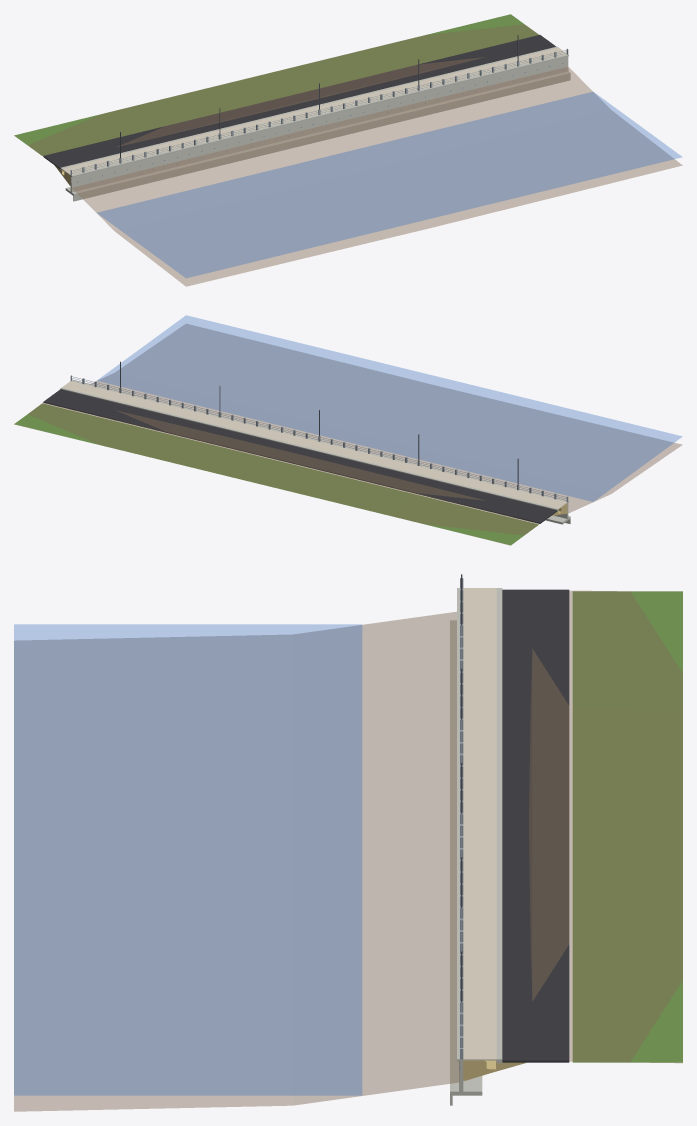
3 renders of one model, top to bottom at view 1: azimuth 30°, elevation 25°; view 2: azimuth 150°, elevation 25°; view 3: azimuth 270°, elevation 25°, orthographic. The views are drawn at different scales.
Visible parts, largest first — view 1: ผิวดินเดิม (จากรูปตัดสำรวจ), ระดับน้ำต่ำสุดเฉลี่ย, พื้นดินหลังเขื่อน, กำแพงเขื่อน ค.ส.ล. S01, กำแพงเขื่อน ค.ส.ล. S10, กำแพงเขื่อน ค.ส.ล. S07, กำแพงเขื่อน ค.ส.ล. S04, กำแพงเขื่อน ค.ส.ล. S08, กำแพงเขื่อน ค.ส.ล. S02, กำแพงเขื่อน ค.ส.ล. S03, กำแพงเขื่อน ค.ส.ล. S05, กำแพงเขื่อน ค.ส.ล. S09 (+14 smaller); view 2: ผิวดินเดิม (จากรูปตัดสำรวจ), ระดับน้ำต่ำสุดเฉลี่ย, พื้นดินหลังเขื่อน, ถนนหลังเขื่อน S01, ถนนหลังเขื่อน S02, ถนนหลังเขื่อน S09, ถนนหลังเขื่อน S10, ถนนหลังเขื่อน S03, ถนนหลังเขื่อน S07, ถนนหลังเขื่อน S04, ถนนหลังเขื่อน S08, ถนนหลังเขื่อน S06 (+11 smaller); view 3: ผิวดินเดิม (จากรูปตัดสำรวจ), ระดับน้ำต่ำสุดเฉลี่ย, พื้นดินหลังเขื่อน, ถนนหลังเขื่อน S10, ถนนหลังเขื่อน S01, ถนนหลังเขื่อน S02, ถนนหลังเขื่อน S03, ถนนหลังเขื่อน S06, ถนนหลังเขื่อน S08, ถนนหลังเขื่อน S09, ถนนหลังเขื่อน S07, ถนนหลังเขื่อน S04 (+12 smaller).
Boxes of the visible parts, bbox=[...] form: ผิวดินเดิม (จากรูปตัดสำรวจ): bbox=[15, 24, 682, 286]; ระดับน้ำต่ำสุดเฉลี่ย: bbox=[97, 92, 681, 277]; พื้นดินหลังเขื่อน: bbox=[14, 14, 538, 155]; กำแพงเขื่อน ค.ส.ล. S01: bbox=[65, 163, 123, 201]; กำแพงเขื่อน ค.ส.ล. S10: bbox=[518, 54, 570, 92]; กำแพงเขื่อน ค.ส.ล. S07: bbox=[369, 90, 421, 128]; กำแพงเขื่อน ค.ส.ล. S04: bbox=[220, 127, 272, 164]; กำแพงเขื่อน ค.ส.ล. S08: bbox=[419, 78, 471, 116]; กำแพงเขื่อน ค.ส.ล. S02: bbox=[121, 151, 173, 188]; กำแพงเขื่อน ค.ส.ล. S03: bbox=[170, 139, 222, 176]; กำแพงเขื่อน ค.ส.ล. S05: bbox=[270, 115, 322, 152]; กำแพงเขื่อน ค.ส.ล. S09: bbox=[469, 66, 520, 104]; ผิวดินเดิม (จากรูปตัดสำรวจ): bbox=[14, 324, 682, 545]; ระดับน้ำต่ำสุดเฉลี่ย: bbox=[97, 315, 682, 501]; พื้นดินหลังเขื่อน: bbox=[14, 403, 538, 545]; ถนนหลังเขื่อน S01: bbox=[490, 498, 557, 523]; ถนนหลังเขื่อน S02: bbox=[440, 486, 506, 511]; ถนนหลังเขื่อน S09: bbox=[93, 401, 159, 426]; ถนนหลังเขื่อน S10: bbox=[43, 389, 109, 414]; ถนนหลังเขื่อน S03: bbox=[391, 474, 457, 499]; ถนนหลังเขื่อน S07: bbox=[192, 425, 258, 451]; ถนนหลังเขื่อน S04: bbox=[341, 462, 407, 487]; ถนนหลังเขื่อน S08: bbox=[142, 413, 208, 438]; ถนนหลังเขื่อน S06: bbox=[242, 437, 308, 462]; ผิวดินเดิม (จากรูปตัดสำรวจ): bbox=[14, 590, 682, 1111]; ระดับน้ำต่ำสุดเฉลี่ย: bbox=[14, 624, 361, 1095]; พื้นดินหลังเขื่อน: bbox=[572, 591, 682, 1062]; ถนนหลังเขื่อน S10: bbox=[502, 1013, 569, 1062]; ถนนหลังเขื่อน S01: bbox=[502, 589, 569, 636]; ถนนหลังเขื่อน S02: bbox=[502, 636, 569, 683]; ถนนหลังเขื่อน S03: bbox=[502, 683, 569, 730]; ถนนหลังเขื่อน S06: bbox=[502, 825, 569, 872]; ถนนหลังเขื่อน S08: bbox=[502, 919, 569, 966]; ถนนหลังเขื่อน S09: bbox=[502, 966, 569, 1013]; ถนนหลังเขื่อน S07: bbox=[502, 872, 569, 919]; ถนนหลังเขื่อน S04: bbox=[502, 731, 569, 777].
Size of the model in its own units: 100 by 11.4 by 60.
